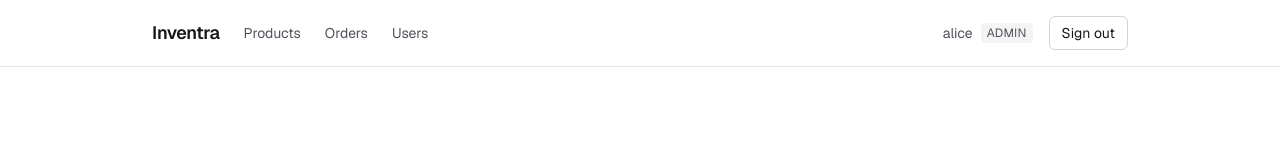
Test case: AppHeader › says so and stays put when the sign-out request fails
Click the button "Sign out" at (1088,33), box top-left (1049, 16), bottom-right (1128, 50)
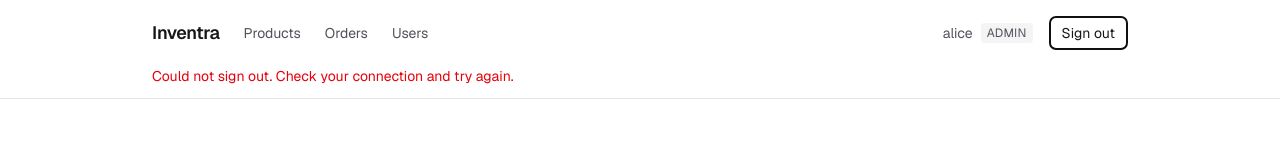
expect the message reads "Could not sign out. Check your connection and try again.": met, box top-left (152, 67), bottom-right (514, 85)
